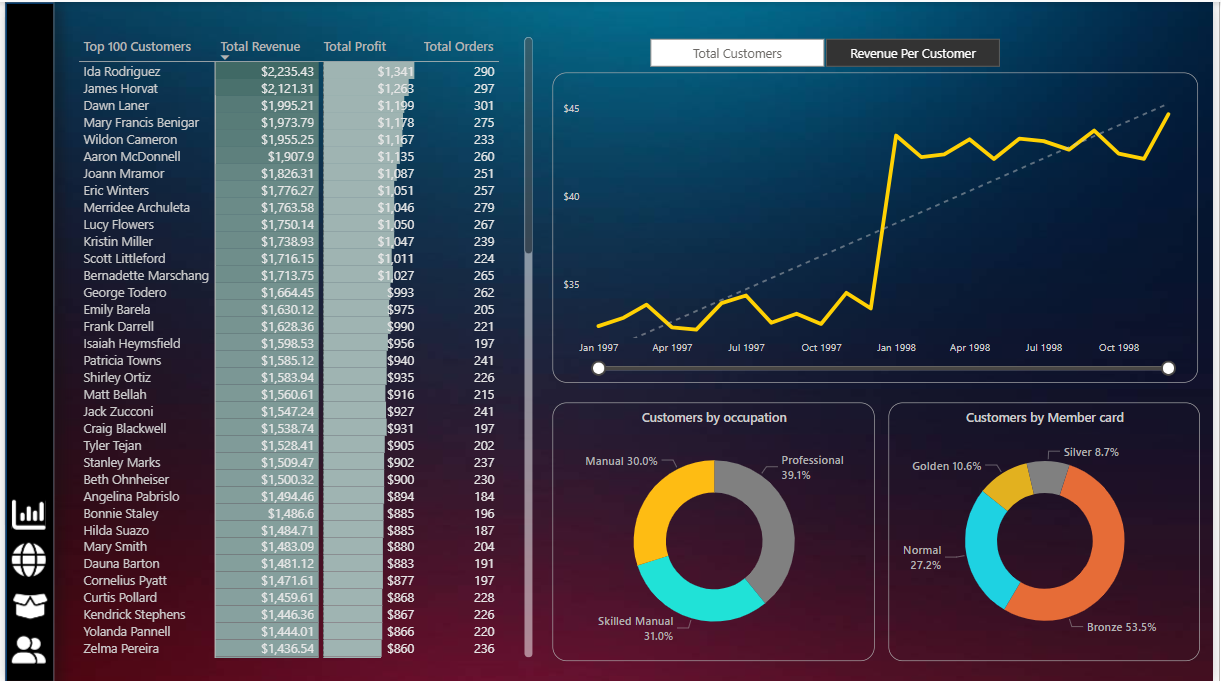

The dashboard page shown, as its layout file describes it:
{"tool":"powerbi","page":{"name":"Customer Detail","canvas":[1280,720],"ordinal":3},"visuals":[{"type":"shape","box":[0,0,51.9,720],"z":0},{"type":"actionButton","box":[3.3,520.8,45,43.8],"z":0,"group":"g1"},{"type":"pivotTable","fields":{"Rows":["Customers.full_name"],"Values":["Measures Table.Total Revenue","Measures Table.Total Profit","Measures Table.Total Transactions"]},"box":[73.8,31.2,491.2,667.5],"z":1000},{"type":"actionButton","box":[3.3,568.5,45,43.8],"z":1000,"group":"g1"},{"type":"lineChart","title":"Revenue Trending","fields":{"Y":["Measures Table.Revenue Per Customer"],"Category":["Calendar.Calender date hierarchy.Year","Calendar.Calender date hierarchy.Start of Month","Calendar.Calender date hierarchy.date"]},"box":[580,75,683.8,328.8],"z":2000},{"type":"actionButton","box":[4.5,618,45,43.8],"z":2000,"group":"g1"},{"type":"slicer","fields":{"Values":["Parameter.Parameter"]},"box":[658.8,31.2,420,43.8],"z":3000},{"type":"actionButton","box":[3.3,663.8,45,43.8],"z":3000,"group":"g1"},{"type":"donutChart","title":" Customers by occupation","fields":{"Category":["Customers.occupation"],"Y":["Measures Table.Total Customers"]},"box":[580.1,424.5,341.3,273.8],"z":4000},{"type":"donutChart","title":" Customers by Member card","fields":{"Y":["Measures Table.Total Customers"],"Category":["Customers.member_card"]},"box":[936.2,425,330,273.8],"z":5000},{"type":"group","id":"g1","title":"Nav Icons","box":[3.3,520.8,46.2,186.8],"z":6000}]}

Visuals, with their boxes in screenshot pixels (x1, y1, x2, y2), scaled from the page's 1280x720 canvas onto the 1221x681 screenshot:
shape: detection(0, 0, 50, 680)
actionButton: detection(3, 493, 46, 534)
pivotTable - Customers.full_name x Measures Table.Total Revenue: detection(70, 30, 539, 661)
actionButton: detection(3, 538, 46, 579)
"Revenue Trending" lineChart: detection(553, 71, 1206, 382)
actionButton: detection(4, 585, 47, 626)
slicer - Parameter.Parameter: detection(628, 30, 1029, 71)
actionButton: detection(3, 628, 46, 669)
" Customers by occupation" donutChart: detection(553, 402, 879, 660)
" Customers by Member card" donutChart: detection(893, 402, 1208, 661)
"Nav Icons" group: detection(3, 493, 47, 669)
